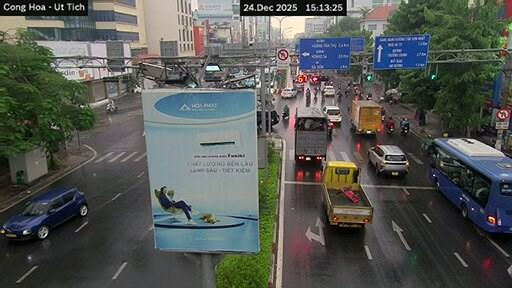motorbike: (105, 101, 117, 112), (400, 125, 409, 135), (327, 121, 333, 136), (386, 126, 393, 134), (282, 111, 288, 119), (337, 90, 341, 100), (313, 94, 317, 103)
